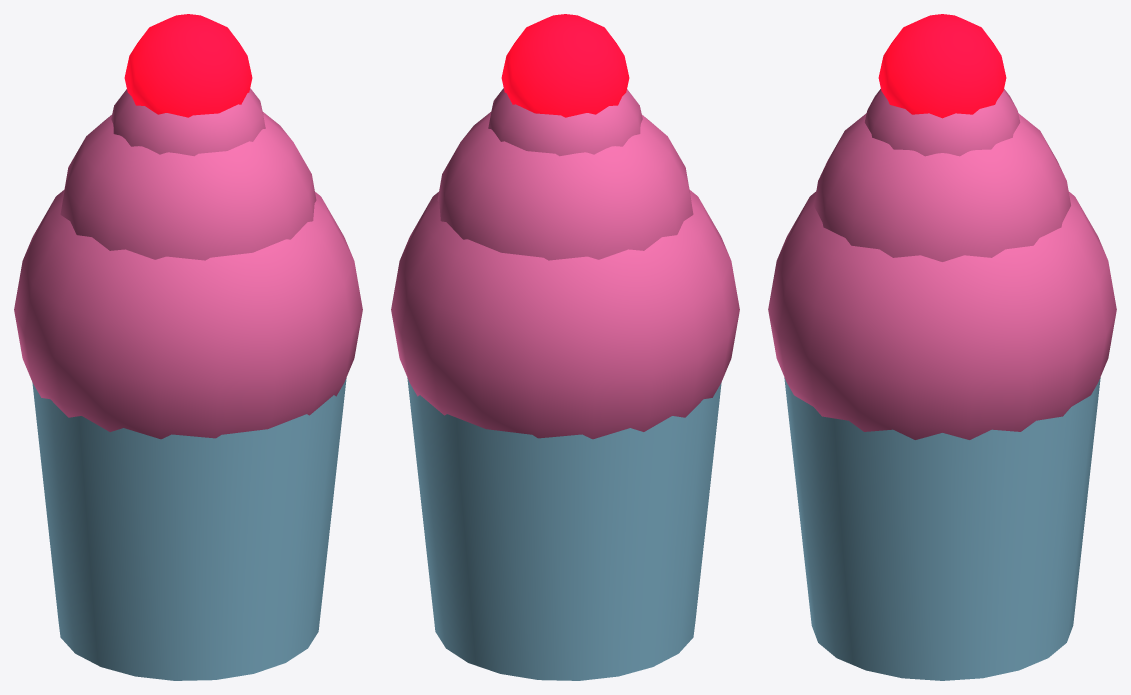
The model's file is cupcake.glb.
The picture shows the model from 3 angles, left to right: view 1: azimuth 30°, elevation 25°; view 2: azimuth 150°, elevation 25°; view 3: azimuth 270°, elevation 25°; orthographic projection.
Visible parts, largest first — view 1: Cup, Frost1, Frost2, Cherry, Frost3; view 2: Cup, Frost1, Frost2, Cherry, Frost3; view 3: Cup, Frost1, Frost2, Cherry, Frost3.
Boxes of the visible parts, x1,y1,x2,y2 form: Cup: (32, 378, 346, 680); Frost1: (14, 190, 362, 439); Frost2: (60, 112, 316, 260); Cherry: (124, 14, 252, 117); Frost3: (111, 88, 265, 156); Cup: (407, 378, 721, 680); Frost1: (391, 190, 739, 439); Frost2: (437, 112, 693, 260); Cherry: (501, 14, 629, 117); Frost3: (488, 88, 642, 156); Cup: (784, 377, 1100, 680); Frost1: (768, 191, 1116, 439); Frost2: (814, 113, 1070, 261); Cherry: (878, 14, 1006, 118); Frost3: (864, 89, 1020, 156).
Size of the model in its own units: 1.18 by 2.3 by 1.2.
